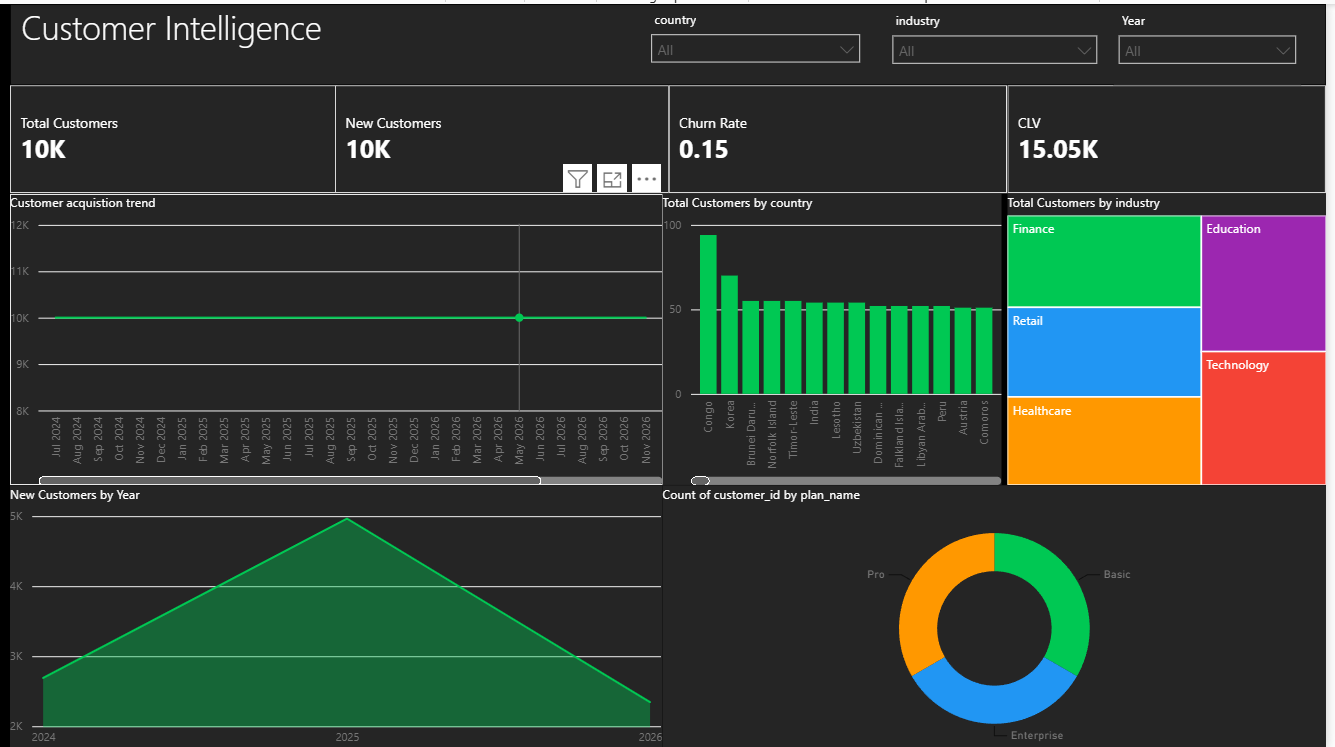

The dashboard page shown, as its layout file describes it:
{"tool":"powerbi","page":{"name":"Page 3","canvas":[1280,720],"ordinal":2},"visuals":[{"type":"textbox","box":[9.7,0,1270.4,78.4],"z":0},{"type":"cardVisual","fields":{"Data":["ai_startup_command_center customers.Total Customers"]},"box":[9.7,78.4,316.1,105],"z":1000},{"type":"cardVisual","fields":{"Data":["Date.New Customers"]},"box":[323.3,78.4,322.1,105],"z":2000},{"type":"cardVisual","fields":{"Data":["ai_startup_command_center campaign_performance.Churn Rate"]},"box":[645.4,78.4,326.9,105],"z":3000},{"type":"cardVisual","fields":{"Data":["Date.CLV"]},"box":[972.4,78.4,307.6,105],"z":4000},{"type":"lineChart","title":"Customer acquistion trend","fields":{"Category":["Date.Month Year"],"Y":["Date.New Customers"]},"box":[9.7,183.4,629.8,281.1],"z":5000},{"type":"treemap","fields":{"Group":["ai_startup_command_center customers.industry"],"Values":["ai_startup_command_center customers.Total Customers"]},"box":[972.4,183.4,307.6,281.1],"z":6000},{"type":"slicer","fields":{"Values":["ai_startup_command_center customers.country","ai_startup_command_center customers.industry"]},"box":[856.6,7.2,207.5,57.9],"z":7000},{"type":"areaChart","fields":{"Category":["ai_startup_command_center customers.signup_date.Variation.Date Hierarchy.Year","ai_startup_command_center customers.signup_date.Variation.Date Hierarchy.Quarter","ai_startup_command_center customers.signup_date.Variation.Date Hierarchy.Month","ai_startup_command_center customers.signup_date.Variation.Date Hierarchy.Day"],"Y":["Date.New Customers"]},"box":[9.7,464.5,629.8,255.8],"z":8000},{"type":"donutChart","fields":{"Category":["ai_startup_command_center subscriptions.plan_name"],"Y":["CountNonNull(ai_startup_command_center customers.customer_id)"]},"box":[639.4,464.5,640.6,255.8],"z":9000},{"type":"slicer","fields":{"Values":["ai_startup_command_center customers.country"]},"box":[623.7,6,211.1,66.4],"z":10000},{"type":"slicer","fields":{"Values":["Date.Date.Variation.Date Hierarchy.Year"]},"box":[1074.9,7.2,181,71.2],"z":11000},{"type":"clusteredColumnChart","fields":{"Category":["ai_startup_command_center customers.country"],"Y":["ai_startup_command_center customers.Total Customers"]},"box":[639.4,183.4,326.9,281.1],"z":12000}]}

Visuals, with their boxes in screenshot pixels (x1, y1, x2, y2), scaled from the page's 1280x720 canvas onto the 1335x747 screenshot:
textbox: 10:0:1334:81
cardVisual - ai_startup_command_center customers.Total Customers: 10:81:340:190
cardVisual - Date.New Customers: 337:81:673:190
cardVisual - ai_startup_command_center campaign_performance.Churn Rate: 673:81:1014:190
cardVisual - Date.CLV: 1014:81:1334:190
"Customer acquistion trend" lineChart: 10:190:667:482
treemap - ai_startup_command_center customers.industry x ai_startup_command_center customers.Total Customers: 1014:190:1334:482
slicer - ai_startup_command_center customers.country x ai_startup_command_center customers.industry: 893:7:1110:68
areaChart - ai_startup_command_center customers.signup_date.Variation.Date Hierarchy.Year x ai_startup_command_center customers.signup_date.Variation.Date Hierarchy.Quarter: 10:482:667:746
donutChart - ai_startup_command_center subscriptions.plan_name x CountNonNull(ai_startup_command_center customers.customer_id): 667:482:1334:746
slicer - ai_startup_command_center customers.country: 650:6:871:75
slicer - Date.Date.Variation.Date Hierarchy.Year: 1121:7:1310:81
clusteredColumnChart - ai_startup_command_center customers.country x ai_startup_command_center customers.Total Customers: 667:190:1008:482
